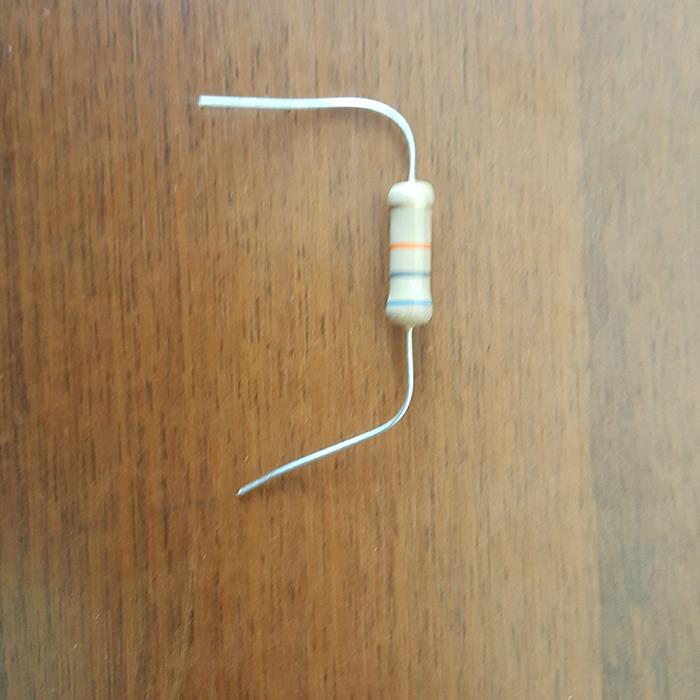resistor: (384, 179, 436, 327)
